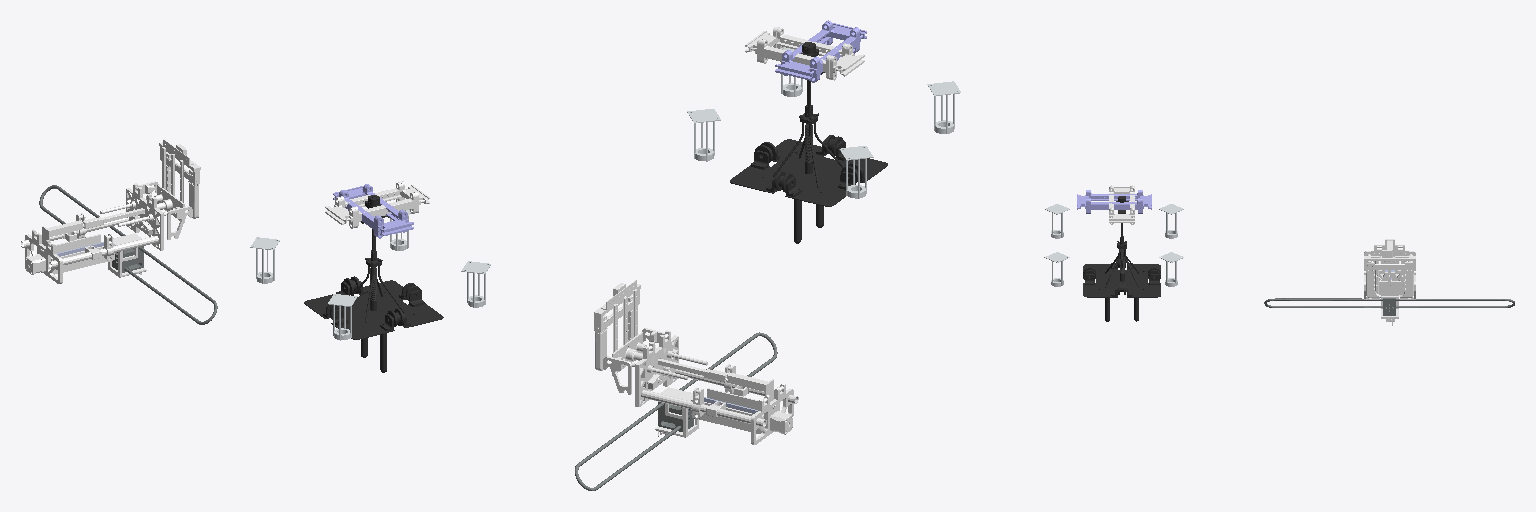
--- What the picture shows (computed from the rendered views, not written in the file) ---
Views: 3 orthographic renders of the robot side by side, from view 1: azimuth 30°, elevation 25°; view 2: azimuth 150°, elevation 25°; view 3: azimuth 270°, elevation 25°.
Model daughter6 with 16 links and 15 joints (1 revolute, 11 prismatic, 3 fixed), rooted at base_link, posed all joints at 0.
Links seen in each view (by area): view 1: endeffector_base_link, z_mechanism, daughter_mounts, y_mechanism, module, x_mechanism, slider, mast_gripper_body, module_holder; view 2: endeffector_base_link, z_mechanism, daughter_mounts, y_mechanism, module, x_mechanism, slider, mast_gripper_body, module_holder, left_antenna_plate; view 3: z_mechanism, module, daughter_mounts, x_mechanism, mast_gripper_body, endeffector_base_link, y_mechanism, slider.
Link boxes in pixels (x1,y1,x2,y2): endeffector_base_link: (21, 183, 163, 283); z_mechanism: (304, 195, 443, 372); daughter_mounts: (250, 210, 490, 340); y_mechanism: (325, 181, 429, 228); module: (39, 185, 217, 324); x_mechanism: (333, 184, 413, 238); slider: (100, 147, 184, 226); mast_gripper_body: (159, 139, 200, 184); module_holder: (108, 233, 146, 277); endeffector_base_link: (635, 330, 798, 444); z_mechanism: (730, 42, 887, 243); daughter_mounts: (687, 47, 960, 198); y_mechanism: (745, 27, 864, 80); module: (575, 332, 777, 490); x_mechanism: (775, 20, 866, 82); slider: (612, 289, 707, 379); mast_gripper_body: (594, 280, 640, 331); module_holder: (655, 387, 698, 437); left_antenna_plate: (603, 356, 631, 394); z_mechanism: (1083, 196, 1160, 321); module: (1264, 298, 1514, 315); daughter_mounts: (1044, 204, 1183, 286); x_mechanism: (1077, 190, 1151, 213); mast_gripper_body: (1364, 250, 1415, 270); endeffector_base_link: (1364, 239, 1415, 299); y_mechanism: (1109, 185, 1134, 224); slider: (1374, 261, 1405, 295).
Bounding box of the posed robot: 0.7829 × 1.82 × 0.6325 m (x, y, z).
Meshes: 16 distinct files referenced, 15 mesh visuals loaded (15 binary STL); not drawn: 1 (reference not matched to a file when rendering).

robot.urdf — daughter6:
<?xml version="1.0" encoding="utf-8"?>
<!-- This URDF was automatically created by SolidWorks to URDF Exporter! Originally created by Stephen Brawner ([email redacted]) 
     Commit Version: 1.5.1-0-g916b5db  Build Version: 1.5.7152.31018
     For more information, please see http://wiki.ros.org/sw_urdf_exporter -->
<robot
  name="daughter6">

  <!--link name="box">
    <inertial>
      <origin xyz="0.0 0.0 0.0" rpy="0.0 0.0 0.0"/>
      <mass value="100000.0"/>
      <inertia ixx="100000.0" ixy="0.0" ixz="0.0" iyy="100000.0" iyz="0.0" izz="100000.0"/>
    </inertial>
    <visual name="">
      <origin xyz="0.0 0.0 0" rpy="0.0 0.0 0.0"/>
      <geometry>
        <box size="0.5 0.5 0.1"/>
      </geometry>
    </visual>
    <collision>
      <origin xyz="0.0 0.0 0" rpy="0.0 0.0 0.0"/>
      <geometry>
        <box size="0.5 0.5 0.1"/>
      </geometry>
    </collision>
  </link>

  <joint name="box_joint" type="fixed">
    <origin xyz="-0.31622 1 0.4" rpy="0.0 0.0 0.0"/>
    <parent link="box"/>
    <child link="base_link"/>
  </joint-->

  <link
    name="base_link">
    <inertial>
      <origin
        xyz="0.0 0.0 0.0"
        rpy="0 0 0" />
      <mass
        value="100" />
      <inertia
        ixx="100"
        ixy="2.82019801601965E-05"
        ixz="-2.89671162372007E-07"
        iyy="100"
        iyz="8.06294042676789E-07"
        izz="100" />
    </inertial>
    <visual>
      <origin
        xyz="0 0 0"
        rpy="0 0 0" />
      <geometry>
        <mesh
          filename="package://daughter6/meshes/base_link.STL" />
      </geometry>
      <material
        name="">
        <color
          rgba="0.776470588235294 0.756862745098039 0.737254901960784 1" />
      </material>
    </visual>
    <collision>
      <origin xyz="0.3 -1.0 0" rpy="0.0 0.0 0.0"/>
      <geometry>
        <box size="0.5 0.5 0.1"/>
      </geometry>
    </collision>
  </link>

  <link
    name="daughter_mounts">
    <inertial>
      <origin
        xyz="-0.28482 0.047234 0.18037"
        rpy="0 0 0" />
      <mass
        value="0.39734" />
      <inertia
        ixx="0.00019431"
        ixy="-1.4903E-22"
        ixz="1.3553E-20"
        iyy="0.00016614"
        iyz="-3.425E-22"
        izz="0.00019431" />
    </inertial>
    <visual>
      <origin
        xyz="0 0 0"
        rpy="0 0 0" />
      <geometry>
        <mesh
          filename="package://daughter6/meshes/daughter_mounts.STL" />
      </geometry>
      <material
        name="">
        <color
          rgba="0.89804 0.91765 0.92941 1" />
      </material>
    </visual>
    <collision>
      <origin
        xyz="0.0 0.0 0"
        rpy="0 0 0" />
      <geometry>
        <mesh
          filename="package://daughter6/meshes/daughter_mounts.STL" />
      </geometry>
    </collision>
  </link>
  
  <joint
    name="daughter_mounts_joint"
    type="fixed">
    <origin
      xyz="0.5617 -0.82611 0.52081"
      rpy="1.5708 0 0.22087" />
    <parent
      link="base_link" />
    <child
      link="daughter_mounts" />
    <axis
      xyz="0 0 0" />
  </joint>

  <link
    name="x_mechanism">
    <inertial>
      <origin
        xyz="0.05 -1.6653E-15 -0.1"
        rpy="0 0 0" />
      <mass
        value="0.025" />
      <inertia
        ixx="0.0000415"
        ixy="0.0"
        ixz="0.0"
        iyy="0.0000415"
        iyz="0.0"
        izz="0.0000415" />
    </inertial>
    <visual>
      <origin
        xyz="0 0 0"
        rpy="0 0 0" />
      <geometry>
        <mesh
          filename="package://daughter6/meshes/x_mechanism.STL" />
      </geometry>
      <material
        name="">
        <color
          rgba="0.75294 0.75294 1 1" />
      </material>
    </visual>
    <collision>
      <origin
        xyz="0 0 0"
        rpy="0 0 0" />
      <geometry>
        <mesh
          filename="package://daughter6/meshes/x_mechanism.STL" />
      </geometry>
    </collision>
  </link>
  
  <joint
    name="x_mechanism_joint"
    type="prismatic">
    <origin
      xyz="0.28188 -1.1645 0.77331"
      rpy="1.5708 0 0" />
    <parent
      link="base_link" />
    <child
      link="x_mechanism" />
    <axis
      xyz="1 0 0" />
    <limit
      lower="-0.075"
      upper="0.175"
      effort="1"
      velocity="5" />

  </joint>



  <link
    name="y_mechanism">
    <inertial>
      <origin
        xyz="4.44089209850063E-16 1.66533453693773E-15 -0.03"
        rpy="0 0 0" />
      <mass
        value="0.01" />
      <inertia
        ixx="0.0000166"
        ixy="0.0"
        ixz="0.0"
        iyy="0.0000166"
        iyz="0.0"
        izz="0.0000166" />
    </inertial>
    <visual>
      <origin
        xyz="0 0 0"
        rpy="0 0 0" />
      <geometry>
        <mesh
          filename="package://daughter6/meshes/y_mechanism.STL" />
      </geometry>
      <material
        name="">
        <color
          rgba="1 1 1 1" />
      </material>
    </visual>
    <collision>
      <origin
        xyz="0 0 0"
        rpy="0 0 0" />
      <geometry>
        <mesh
          filename="package://daughter6/meshes/y_mechanism.STL" />
      </geometry>
    </collision>
  </link>
  
  <joint
    name="y_mechanism_joint"
    type="prismatic">
    <origin
      xyz="0.08 0 -0.1"
      rpy="0 0 0" />
    <parent
      link="x_mechanism" />
    <child
      link="y_mechanism" />
    <axis
      xyz="0 0 1" />
    <limit
      lower="-0.075"
      upper="0.075"
      effort="1"
      velocity="5" />
  </joint>



  <link
    name="z_mechanism">
    <inertial>
      <origin
        xyz="1.23554593811637E-05 0.304486025518739 8.83599374001953E-07"
        rpy="0 0 0" />
      <mass
        value="0.025" />
      <inertia
        ixx="0.0000415"
        ixy="0.0"
        ixz="0.0"
        iyy="0.0000415"
        iyz="0.0"
        izz="0.0000415" />
    </inertial>
    <visual>
      <origin
        xyz="0 0 0"
        rpy="0 0 0" />
      <geometry>
        <mesh
          filename="package://daughter6/meshes/z_mechanism.STL" />
      </geometry>
      <material
        name="">
        <color
          rgba="0.250980392156863 0.250980392156863 0.250980392156863 1" />
      </material>
    </visual>
    <collision>
      <origin
        xyz="0 0 0"
        rpy="0 0 0" />
      <geometry>
        <mesh
          filename="package://daughter6/meshes/z_mechanism.STL" />
      </geometry>
    </collision>
  </link>
  
  <joint
    name="z_mechanism_joint"
    type="fixed">
    <origin
      xyz="-0.011512 0.0275 -0.03"
      rpy="3.1416 0 0" />
    <parent
      link="y_mechanism" />
    <child
      link="z_mechanism" />
    <axis
      xyz="0 0 0" />
  </joint>

  <!-- <link
    name="end_effector">
    <inertial>
      <origin
        xyz="0.0842524173635568 0.0878447280375007 0.126300455794391"
        rpy="0 0 0" />
      <mass
        value="0.025" />
      <inertia
        ixx="0.0000415"
        ixy="0.0"
        ixz="0.0"
        iyy="0.0000415"
        iyz="0.0"
        izz="0.0000415" />
    </inertial>
    <visual>
      <origin
        xyz="0 0 0"
        rpy="0 0 0" />
      <geometry>
        <mesh
          filename="package://daughter6/meshes/end_effector.STL" />
      </geometry>
      <material
        name="">
        <color
          rgba="0.752941176470588 0.752941176470588 0.752941176470588 1" />
      </material>
    </visual>
    <collision>
      <origin
        xyz="0 0 0"
        rpy="0 0 0" />
      <geometry>
        <mesh
          filename="package://daughter6/meshes/end_effector.STL" />
      </geometry>
    </collision>
  </link> -->

  <joint
    name="end_effector_joint"
    type="prismatic">
    <origin
      xyz="-0.41 0.6 0.95"
      rpy="1.5708 -1.5704 0" />
    <parent
      link="z_mechanism" />
    <child
      link="endeffector_base_link" />
    <axis
      xyz="0 0 1" />
    <limit
      lower="-0.20"
      upper="0.20"
      effort="1"
      velocity="5" />
  </joint>

  <link name="endeffector_base_link">
    <inertial>
      <origin
        xyz="0.084688775983158 -0.04 0.104688775983158"
        rpy="0 0 0" />
      <mass
        value="1.46831896401239" />
      <inertia
        ixx="0.00322833324237339"
        ixy="3.04647308633317E-07"
        ixz="-1.10768095812092E-07"
        iyy="0.00375446323042298"
        iyz="2.00972499910891E-05"
        izz="0.00125851892718179" />
    </inertial>
    <visual>
      <origin
        xyz="0 0 0"
        rpy="0 0 0" />
      <geometry>
        <mesh
          filename="package://iris/meshes/endeffector_base_link.STL" />
      </geometry>
      <material
        name="">
        <color
          rgba="1 1 1 1" />
      </material>
    </visual>
    <collision>
      <origin
        xyz="0 0 0"
        rpy="0 0 0" />
      <geometry>
        <mesh
          filename="package://iris/meshes/endeffector_base_link.STL" />
      </geometry>
    </collision>
  </link>



  <link
    name="telescope">
    <inertial>
      <origin
        xyz="0.0985676197712841 0.00874270290997199 2.09554595897998E-15"
        rpy="0 0 0" />
      <mass
        value="0.143539333717002" />
      <inertia
        ixx="3.24429026962469E-05"
        ixy="9.43195690190061E-08"
        ixz="-2.19025318855978E-19"
        iyy="0.000494784708914685"
        iyz="-2.16654606784098E-20"
        izz="0.000478762550221059" />
    </inertial>
    <visual>
      <origin
        xyz="0 0 0"
        rpy="0 0 0" />
      <geometry>
        <mesh
          filename="package://iris/meshes/telescope.STL" />
      </geometry>
      <material
        name="">
        <color
          rgba="0.792156862745098 0.819607843137255 0.933333333333333 1" />
      </material>
    </visual>
    <collision>
      <origin
        xyz="0 0 0"
        rpy="0 0 0" />
      <geometry>
        <mesh
          filename="package://iris/meshes/telescope.STL" />
      </geometry>
    </collision>
  </link>

  <joint
    name="telescope_joint"
    type="prismatic">
    <origin
      xyz="0.084691 -0.14427 0.075806"
      rpy="1.5708 0 1.5708" />
    <parent
      link="endeffector_base_link" />
    <child
      link="telescope" />
    <axis
      xyz="1 0 0" />
    <limit
      lower="-0.22"
      upper="0"
      effort="1000"
      velocity="0.04" />
    <dynamics damping="10.0" friction="1.0"/>
  </joint>

  <link
    name="module_holder">
    <inertial>
      <origin
        xyz="0.0276444683872192 0.0380287752991031 0.0471657897823428"
        rpy="0 0 0" />
      <mass
        value="0.112915699895722" />
      <inertia
        ixx="0.000239125772707064"
        ixy="-4.47922778840386E-14"
        ixz="-3.73462875029935E-08"
        iyy="0.000125663515607535"
        iyz="-8.81547273538875E-08"
        izz="0.000217510523518944" />
    </inertial>
    <visual>
      <origin
        xyz="0 0 0"
        rpy="0 0 0" />
      <geometry>
        <mesh
          filename="package://iris/meshes/module_holder.STL" />
      </geometry>
      <material
        name="">
        <color
          rgba="1 1 1 1" />
      </material>
    </visual>
    <collision>
      <origin
        xyz="-0.0045 -0.0055 0"
        rpy="0 0 0" />
      <geometry>
        <mesh filename="package://iris/meshes/module_holder32.STL" scale="0.00105 0.00105 0.001" />
      </geometry>
    </collision>
  </link>

  <joint
    name="module_holder_joint"
    type="fixed">
    <origin
      xyz="-0.093918 -0.06763 0.02794"
      rpy="0 1.5708 0" />
    <parent
      link="telescope" />
    <child
      link="module_holder" />
    <axis
      xyz="0 0 0" />
  </joint>

  <link
    name="module">
    <inertial>
      <origin
        xyz="0 -7.21644966006352E-16 -2.08166817117217E-17"
        rpy="0 0 0" />
      <mass
        value="2.75530438159008" />
      <inertia
        ixx="0.0948411478865417"
        ixy="1.75752708939923E-17"
        ixz="0.000754879701125273"
        iyy="0.00305381832840899"
        iyz="7.79715110963465E-16"
        izz="0.0948533146084629" />
    </inertial>
    <visual>
      <origin
        xyz="0 0 0"
        rpy="0 0 0" />
      <geometry>
        <mesh
          filename="package://iris/meshes/module.STL" />
      </geometry>
      <material
        name="">
        <color
          rgba="0.529411764705882 0.549019607843137 0.549019607843137 1" />
      </material>
    </visual>
    <collision>
      <origin
        xyz="-0.038 -0.482 -0.038"
        rpy="1.570796 0 1.570796" />
      <geometry>
        <mesh filename="package://iris/meshes/module_4.STL" scale="0.001 0.001 0.001" />
      </geometry>
    </collision>
  </link>
  
  <joint
    name="module_joint"
    type="prismatic">
    <origin
      xyz="0.0284 0.0411 0.0401"
      rpy="1.5708 1.5708 0" />
    <parent
      link="module_holder" />
    <child
      link="module" />
    <axis
      xyz="0 0 0" />
    <limit lower="0.0" upper="0.0" effort="0.0" velocity="0.0"/>
    
  </joint>

  <link
    name="servo">
    <inertial>
      <origin
        xyz="0.0141844106750691 0.00318503516424351 0.0199549766675129"
        rpy="0 0 0" />
      <mass
        value="0.000386150154902626" />
      <inertia
        ixx="1.24403558782184E-09"
        ixy="-3.41567594066127E-24"
        ixz="2.28831761644552E-23"
        iyy="4.45543739705495E-08"
        iyz="2.26253041751632E-25"
        izz="4.38308530283391E-08" />
    </inertial>
    <visual>
      <origin
        xyz="-0.0141844106750691 -0.00318503516424351 -0.0199549766675129"
        rpy="0 0 0" />
      <geometry>
        <mesh
          filename="package://iris/meshes/servo.STL" />
      </geometry>
      <material
        name="">
        <color
          rgba="1 1 1 1" />
      </material>
    </visual>
    <collision>
      <origin
        xyz="-0.0141844106750691 -0.00318503516424351 -0.0199549766675129"
        rpy="0 0 0" />
      <geometry>
        <mesh
          filename="package://iris/meshes/servo.STL" />
      </geometry>
    </collision>
  </link>

  <joint
    name="servo_joint"
    type="revolute">
    <origin
      xyz="0.0191844106750691 -0.01418503516424351 -0.006"
      rpy="-1.570796 0 -1.570796" />
    <parent
      link="module_holder" />
    <child
      link="servo" />
    <axis
      xyz="0 1 0" />
    <limit
      lower="-0.001"
      upper="1.570796"
      effort="0.05"
      velocity="5" />
    <dynamics damping="0.0001" friction="0.0001"/>
  </joint>

  <link
    name="slider">
    <inertial>
      <origin
        xyz="0.0203059949124869 0.043758365249048 9.72694147449715E-14"
        rpy="0 0 0" />
      <mass
        value="0.558494211268862" />
      <inertia
        ixx="0.00112618003156778"
        ixy="-5.57199273373032E-08"
        ixz="3.18217481703732E-15"
        iyy="0.000465818095997846"
        iyz="-2.38402806797747E-14"
        izz="0.00135192392453979" />
    </inertial>
    <visual>
      <origin
        xyz="0 0 0"
        rpy="0 0 0" />
      <geometry>
        <mesh
          filename="package://iris/meshes/slider.STL" />
      </geometry>
      <material
        name="">
        <color
          rgba="1 1 1 1" />
      </material>
    </visual>
    <collision>
      <origin
        xyz="0 0 0"
        rpy="0 0 0" />
      <geometry>
        <mesh
          filename="package://iris/meshes/slider.STL" />
      </geometry>
    </collision>
  </link>

  <joint
    name="slider_joint"
    type="prismatic">
    <origin
      xyz="0.084691 -0.34108 0.1774"
      rpy="1.5708 0 1.5708" />
    <parent
      link="endeffector_base_link" />
    <child
      link="slider" />
    <axis
      xyz="1 0 0" />
    <limit
      lower="-0.1"
      upper="0.03"
      effort="10"
      velocity="0.05" />
    <dynamics damping="10.0" friction="1.0"/>
  </joint>

  <link
    name="mast_gripper_body">
    <inertial>
      <origin
        xyz="0.00953325364640828 -0.0296875521162713 0.0991417114679227"
        rpy="0 0 0" />
      <mass
        value="0.240475754958868" />
      <inertia
        ixx="0.000765472790552599"
        ixy="-4.85003135776345E-07"
        ixz="-3.49469630460124E-07"
        iyy="0.000753406095159606"
        iyz="2.77532727532972E-07"
        izz="3.11499400675814E-05" />
    </inertial>
    <visual>
      <origin
        xyz="0 0 0"
        rpy="0 0 0" />
      <geometry>
        <mesh filename="package://iris/meshes/mast_gripper_body.STL" scale="0.7 1 1"/>
      </geometry>
      <material
        name="">
        <color
          rgba="1 1 1 1" />
      </material>
    </visual>
    <collision>
      <origin
        xyz="0 0 0"
        rpy="0 0 0" />
      <geometry>
        <mesh filename="package://iris/meshes/mast_gripper_body.STL" scale="0.7 1 1"/>
      </geometry>
    </collision>
  </link>

  <joint
    name="mast_gripper_body_joint"
    type="prismatic">
    <origin
      xyz="-0.018 0.09519 -0.1"
      rpy="0 0 3.1416" />
    <parent
      link="slider" />
    <child
      link="mast_gripper_body" />
    <axis
      xyz="0 1 0" />
    <limit
      lower="0"
      upper="0.20"
      effort="2000"
      velocity="0.02" />
    <dynamics damping="1.0" friction="1.0"/>
  </joint>

  <link
    name="mast_gripper_left_arm">
    <inertial>
      <origin
        xyz="0.0164436084657876 0.0801539698589274 0.0128359148574209"
        rpy="0 0 0" />
      <mass
        value="0.0876533524092543" />
      <inertia
        ixx="0.000108646062517578"
        ixy="5.03908918766212E-06"
        ixz="1.54138267447094E-08"
        iyy="1.5937255529227E-05"
        iyz="3.5017134818822E-06"
        izz="0.000115868997224528" />
    </inertial>
    <visual>
      <origin
        xyz="0 0 0.008"
        rpy="0 0 0" />
      <geometry>
        <mesh
          filename="package://iris/meshes/mast_gripper_left_arm.STL" scale="1 1 0.7"/>
      </geometry>
      <material
        name="">
        <color
          rgba="1 1 1 1" />
      </material>
    </visual>
    <collision>
      <origin
        xyz="0 0 0.008"
        rpy="0 0 0" />
      <geometry>
        <mesh
          filename="package://iris/meshes/mast_gripper_left_arm.STL" scale="1 1 0.7"/>
      </geometry>
    </collision>
  </link>

  <joint
    name="mast_gripper_left_arm_joint"
    type="prismatic">
    <origin
      xyz="0.02916 0.11529 0.19246"
      rpy="3.1416 1.5708 0" />
    <parent
      link="mast_gripper_body" />
    <child
      link="mast_gripper_left_arm" />
    <axis
      xyz="1 0 0 " />
    <limit
      lower="0"
      upper="0.055"
      effort="20"
      velocity="0.01" />
    <dynamics damping="1.0" friction="1.0"/>
  </joint>
  <link
    name="mast_gripper_right_arm">
    <inertial>
      <origin
        xyz="0.0175656340795079 0.0707958011115334 0.0126126939075389"
        rpy="0 0 0" />
      <mass
        value="0.128708040529818" />
      <inertia
        ixx="0.000147847608261048"
        ixy="8.23950490743168E-06"
        ixz="6.71261713631704E-08"
        iyy="1.97721476229939E-05"
        iyz="-3.74072998463079E-06"
        izz="0.000156008264642318" />
    </inertial>
    <visual>
      <origin
        xyz="0 0 0"
        rpy="0 0 0" />
      <geometry>
        <mesh
          filename="package://iris/meshes/mast_gripper_right_arm.STL" scale="1 1 0.7"/>
      </geometry>
      <material
        name="">
        <color
          rgba="1 1 1 1" />
      </material>
    </visual>
    <collision>
      <origin
        xyz="0 0 0"
        rpy="0 0 0" />
      <geometry>
        <mesh
          filename="package://iris/meshes/mast_gripper_right_arm.STL" scale="1 1 0.7"/>
      </geometry>
    </collision>
  </link>

  <joint
    name="mast_gripper_right_arm_joint"
    type="prismatic">
    <origin
      xyz="0.00376 0.11529 0.008824"
      rpy="3.141592 -1.5708 0" />
    <parent
      link="mast_gripper_body" />
    <child
      link="mast_gripper_right_arm" />
    <axis
      xyz="1 0 0" />
    <limit
      lower="0"
      upper="0.055"
      effort="20"
      velocity="0.01" />
    <dynamics damping="1.0" friction="1.0"/>
  </joint>

  <link
    name="left_antenna_plate">
    <inertial>
      <origin
        xyz="0.00385989929847952 0.0123351521617864 0.00216477941046883"
        rpy="0 0 0" />
      <mass
        value="0.0257369061008368" />
      <inertia
        ixx="1.87589270482426E-05"
        ixy="5.99617190455542E-06"
        ixz="-1.32643304623438E-07"
        iyy="1.24815047437408E-05"
        iyz="6.92953843522246E-07"
        izz="3.03160210795998E-05" />
    </inertial>
    <visual>
      <origin
        xyz="0 0 0"
        rpy="0 0 0" />
      <geometry>
        <mesh
          filename="package://iris/meshes/left_antenna_plate.STL" />
      </geometry>
      <material
        name="">
        <color
          rgba="1 1 1 1" />
      </material>
    </visual>
    <collision>
      <origin
        xyz="-0.04 -0.02 0"
        rpy="0 0 0" />
      <geometry>
        <mesh filename="package://iris/meshes/plate_3.STL" scale="0.001 0.001 0.001" />
      </geometry>
    </collision>
  </link>

  <joint
    name="left_antenna_plate_joint"
    type="prismatic">
    <origin
      xyz="0.17769 -0.31177 0.16264"
      rpy="1.5708 0 1.5708" />
    <parent
      link="endeffector_base_link" />
    <child
      link="left_antenna_plate" />
    <axis
      xyz="0 1 0" />
    <limit
      lower="-0.11"
      upper="0"
      effort="10"
      velocity="0.02" />
    <dynamics damping="1.0" friction="1.0"/>
  </joint>

  <link
    name="right_antenna_plate">
    <inertial>
      <origin
        xyz="0.00385989929847941 0.0123351521617863 0.00483522058953116"
        rpy="0 0 0" />
      <mass
        value="0.0257369061008368" />
      <inertia
        ixx="1.87589270482426E-05"
        ixy="5.99617190455541E-06"
        ixz="1.32643304623517E-07"
        iyy="1.24815047437408E-05"
        iyz="-6.92953843522276E-07"
        izz="3.03160210795998E-05" />
    </inertial>
    <visual>
      <origin
        xyz="0 0 0"
        rpy="0 0 0" />
      <geometry>
        <mesh
          filename="package://iris/meshes/right_antenna_plate.STL" />
      </geometry>
      <material
        name="">
        <color
          rgba="1 1 1 1" />
      </material>
    </visual>
    <collision>
      <origin
        xyz="-0.04 -0.02 0"
        rpy="0 0 0" />
      <geometry>
        <mesh filename="package://iris/meshes/plate_3.STL" scale="0.001 0.001 0.001" />
      </geometry>
    </collision>
  </link>

  <joint
    name="right_antenna_plate_joint"
    type="prismatic">
    <origin
      xyz="-0.015309 -0.31177 0.16264"
      rpy="1.5708 0 1.5708" />
    <parent
      link="endeffector_base_link" />
    <child
      link="right_antenna_plate" />
    <axis
      xyz="0 1 0" />
    <limit
      lower="-0.11"
      upper="0"
      effort="10"
      velocity="0.02" />
    <dynamics damping="1.0" friction="1.0"/>
  </joint>

  


  <!--link
    name="end_effector_base_link">
    <inertial>
      <origin
        xyz="0.0842524173635568 0.0878447280375007 0.126300455794391"
        rpy="0 0 0" />
      <mass
        value="6.13346765838147" />
      <inertia
        ixx="0.00969440906049311"
        ixy="3.31495047956124E-06"
        ixz="-5.29991763629153E-07"
        iyy="0.101623549886689"
        iyz="-0.000739163904946508"
        izz="0.0986462091191756" />
    </inertial>
    <visual>
      <origin
        xyz="0 0 0"
        rpy="0 0 0" />
      <geometry>
        <mesh
          filename="package://iris/meshes/end_effector_meshes/endeffector_base_link.STL" />
      </geometry>
      <material
        name="">
        <color
          rgba="0.752941176470588 0.752941176470588 0.752941176470588 1" />
      </material>
    </visual>
    <collision>
      <origin
        xyz="0 0 0"
        rpy="0 0 0" />
      <geometry>
        <mesh
          filename="package://iris/meshes/end_effector_meshes/endeffector_base_link.STL" />
      </geometry>
    </collision>
  </link>
  
  <joint
    name="end_effector_base_link_joint"
    type="prismatic">
    <origin
      xyz="-0.00016866 0.57237 0.084728"
      rpy="3.1416 1.5708 0" />
    <parent
      link="z_mechanism" />
    <child
      link="end_effector_base_link" />
    <axis
      xyz="0 -1 0" />
    <limit
      lower="-0.20"
      upper="0.20"
      effort="1"
      velocity="1.0" />
  </joint-->

  <!-- Transmissions -->
  <transmission name="x_trans" type="SimpleTransmission">
    <type>transmission_interface/SimpleTransmission</type>
    <actuator name="x_actuator">
      <mechanicalReduction>1</mechanicalReduction>
    </actuator>
    <joint name="x_mechanism_joint">
      <hardwareInterface>EffortJointInterface</hardwareInterface>
    </joint>
  </transmission>


  <transmission name="y_trans" type="SimpleTransmission">
    <type>transmission_interface/SimpleTransmission</type>
    <actuator name="y_actuator">
      <mechanicalReduction>1</mechanicalReduction>
    </actuator>
    <joint name="y_mechanism_joint">
      <hardwareInterface>EffortJointInterface</hardwareInterface>
    </joint>
  </transmission>

  <transmission name="z_trans" type="SimpleTransmission">
    <type>transmission_interface/SimpleTransmission</type>
    <actuator name="z_actuator">
      <mechanicalReduction>1</mechanicalReduction>
    </actuator>
    <joint name="end_effector_joint">
      <hardwareInterface>EffortJointInterface</hardwareInterface>
    </joint>
  </transmission> 

  #RPY Jugaad
  
  #ENdeffector ke chize

  <transmission name="slider_trans" type="SimpleTransmission">
    <type>transmission_interface/SimpleTransmission</type>
    <actuator name="slider">
      <mechanicalReduction>1</mechanicalReduction>
    </actuator>
    <joint name="slider_joint">
      <hardwareInterface>EffortJointInterface</hardwareInterface>
    </joint>
  </transmission>

  <transmission name="mastgripper_trans" type="SimpleTransmission">
    <type>transmission_interface/SimpleTransmission</type>
    <actuator name="gripper">
      <mechanicalReduction>1</mechanicalReduction>
    </actuator>
    <joint name="mast_gripper_body_joint">
      <hardwareInterface>EffortJointInterface</hardwareInterface>
    </joint>
  </transmission>

  <transmission name="left_gripper_trans" type="SimpleTransmission">
    <type>transmission_interface/SimpleTransmission</type>
    <actuator name="left_gripper">
      <mechanicalReduction>1</mechanicalReduction>
    </actuator>
    <joint name="mast_gripper_left_arm_joint">
      <hardwareInterface>EffortJointInterface</hardwareInterface>
    </joint>
  </transmission>

  <transmission name="right_gripper_trans" type="SimpleTransmission">
    <type>transmission_interface/SimpleTransmission</type>
    <actuator name="right_gripper">
      <mechanicalReduction>1</mechanicalReduction>
    </actuator>
    <joint name="mast_gripper_right_arm_joint">
      <hardwareInterface>EffortJointInterface</hardwareInterface>
    </joint>
  </transmission>

  <transmission name="rantenna_trans" type="SimpleTransmission">
    <type>transmission_interface/SimpleTransmission</type>
    <actuator name="rantenna">
      <mechanicalReduction>1</mechanicalReduction>
    </actuator>
    <joint name="right_antenna_plate_joint">
      <hardwareInterface>EffortJointInterface</hardwareInterface>
    </joint>
  </transmission>

  <transmission name="lantenna_trans" type="SimpleTransmission">
    <type>transmission_interface/SimpleTransmission</type>
    <actuator name="lantenna">
      <mechanicalReduction>1</mechanicalReduction>
    </actuator>
    <joint name="left_antenna_plate_joint">
      <hardwareInterface>EffortJointInterface</hardwareInterface>
    </joint>
  </transmission>

  <transmission name="tele1_trans" type="SimpleTransmission">
    <type>transmission_interface/SimpleTransmission</type>
    <actuator name="tele1">
      <mechanicalReduction>1</mechanicalReduction>
    </actuator>
    <joint name="telescope_joint">
      <hardwareInterface>EffortJointInterface</hardwareInterface>
    </joint>
  </transmission>

  <transmission name="low_servo_trans" type="SimpleTransmission">
    <type>transmission_interface/SimpleTransmission</type>
    <actuator name="low_servo">
      <mechanicalReduction>1</mechanicalReduction>
    </actuator>
    <joint name="servo_joint">
      <hardwareInterface>hardware_interface/VelocityJointInterface</hardwareInterface>
    </joint>
  </transmission>


 <!--  <gazebo>
    <plugin name="gazebo_ros_control" filename="libgazebo_ros_control.so">
      <robotNamespace>/daughter6</robotNamespace>
    </plugin>
  </gazebo> -->

</robot>
